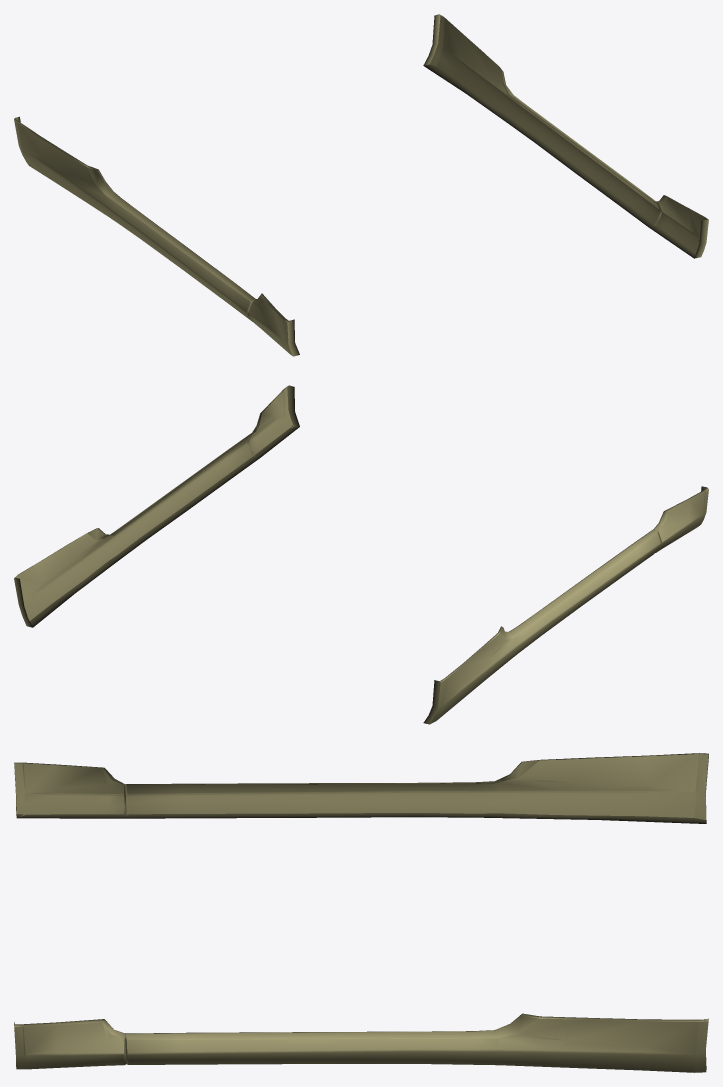
File: R34_Skirt01_Duco.fbx
The picture shows the model from 3 angles, top to bottom: view 1: azimuth 30°, elevation 25°; view 2: azimuth 150°, elevation 25°; view 3: azimuth 270°, elevation 25°; orthographic projection. The views are drawn at different scales.
Visible parts, largest first — view 1: R34_Skirt01_Duco; view 2: R34_Skirt01_Duco; view 3: R34_Skirt01_Duco.
Boxes of the visible parts, x1,y1,x2,y2 form: R34_Skirt01_Duco: (14, 14, 708, 356); R34_Skirt01_Duco: (14, 385, 708, 724); R34_Skirt01_Duco: (14, 753, 708, 1072).
Bounding box in the file's own units: 176 × 18.31 × 193.
